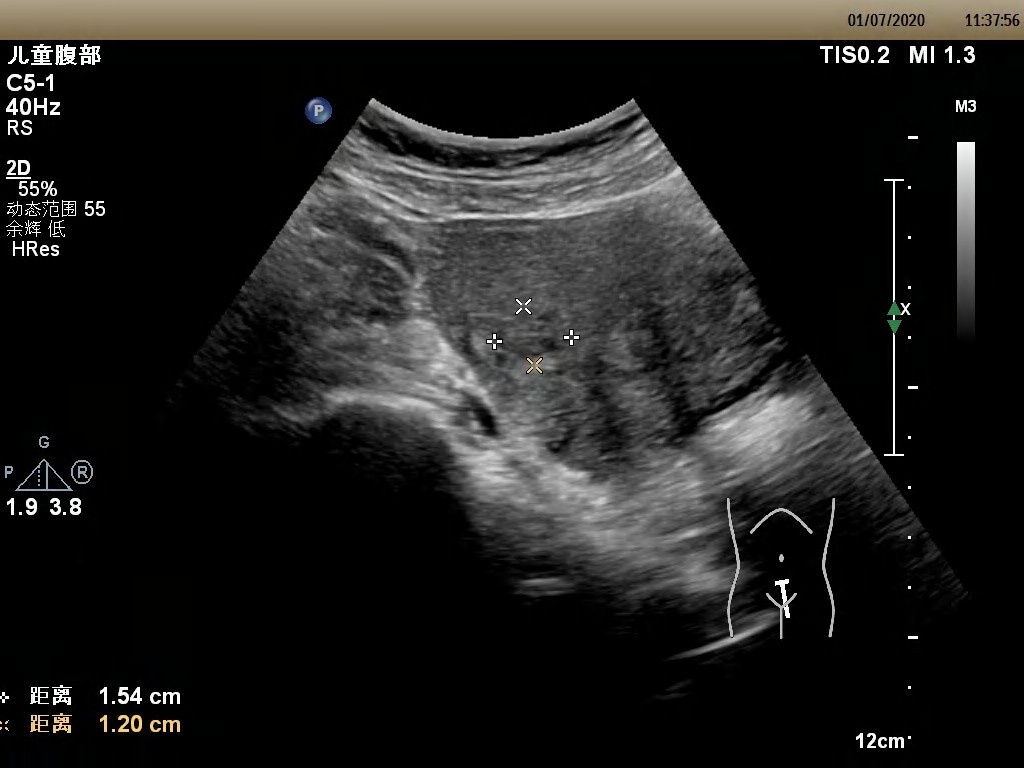肌瘤: (490, 313, 570, 361)
